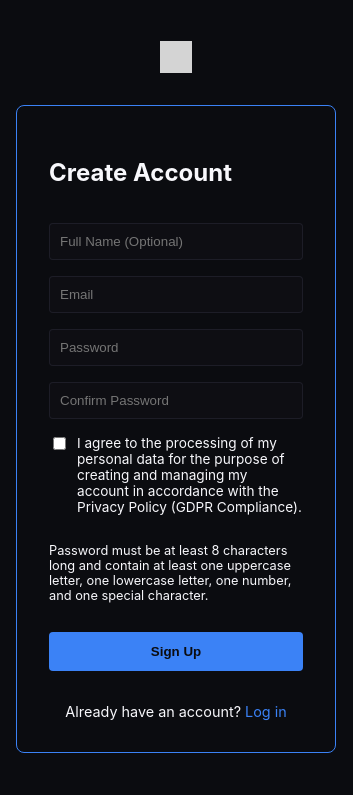
SignupPage › displays "Cannot connect to server" on network error
Type "user@bec-robotics.com" into the field with placeholder "Email".
click(176, 294); type("user@bec-robotics.com")  # box [49, 276, 303, 313]
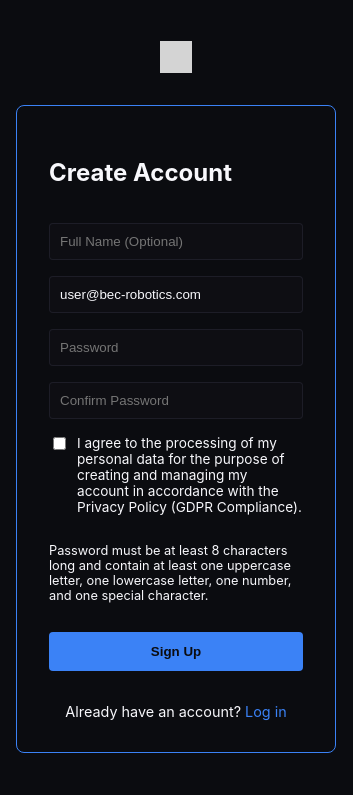
Type "ValidPass@99" into the password field with placeholder "Password".
click(176, 347); type("ValidPass@99")  # box [49, 329, 303, 366]
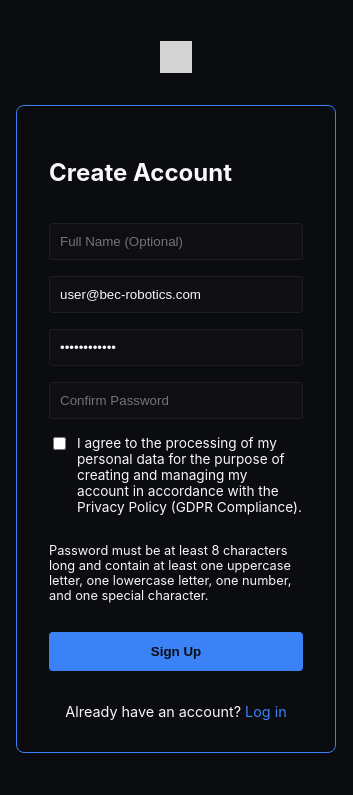
Type "ValidPass@99" into the password field with placeholder "Confirm Password".
click(176, 400); type("ValidPass@99")  # box [49, 382, 303, 419]
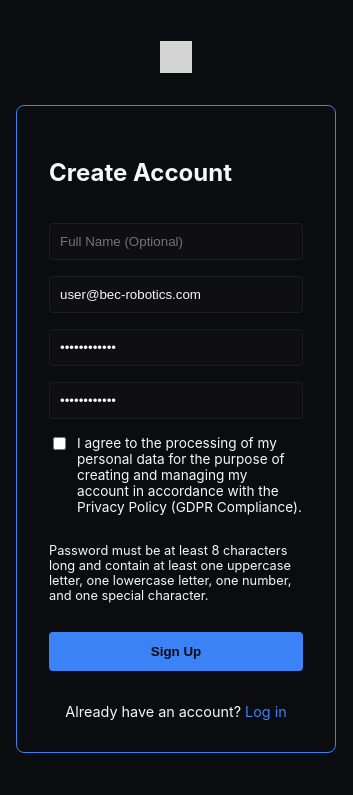
Click the checkbox.
click(60, 443)  # box [53, 437, 66, 450]
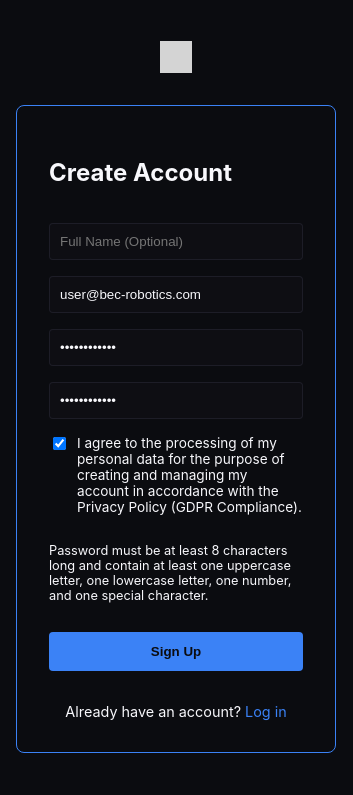
Click the button "Sign Up".
click(176, 652)  # box [49, 632, 303, 671]
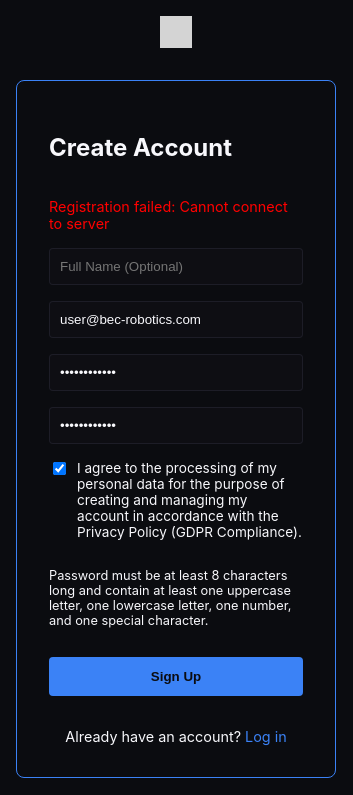
expect the text "Registration failed: Cannot connect to server" is shown: met, box [49, 198, 303, 232]
